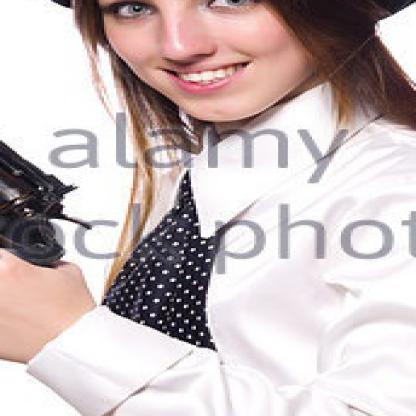gun: (0, 52, 102, 361)
